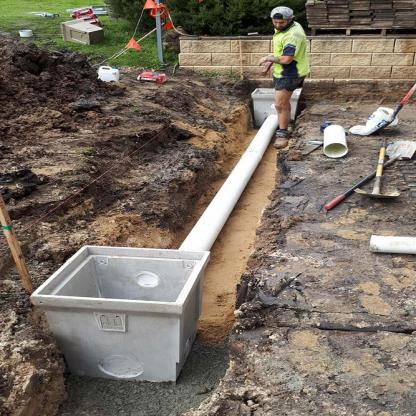PVC: (177, 115, 278, 250), (320, 123, 349, 158), (369, 235, 415, 254), (19, 29, 33, 37)
